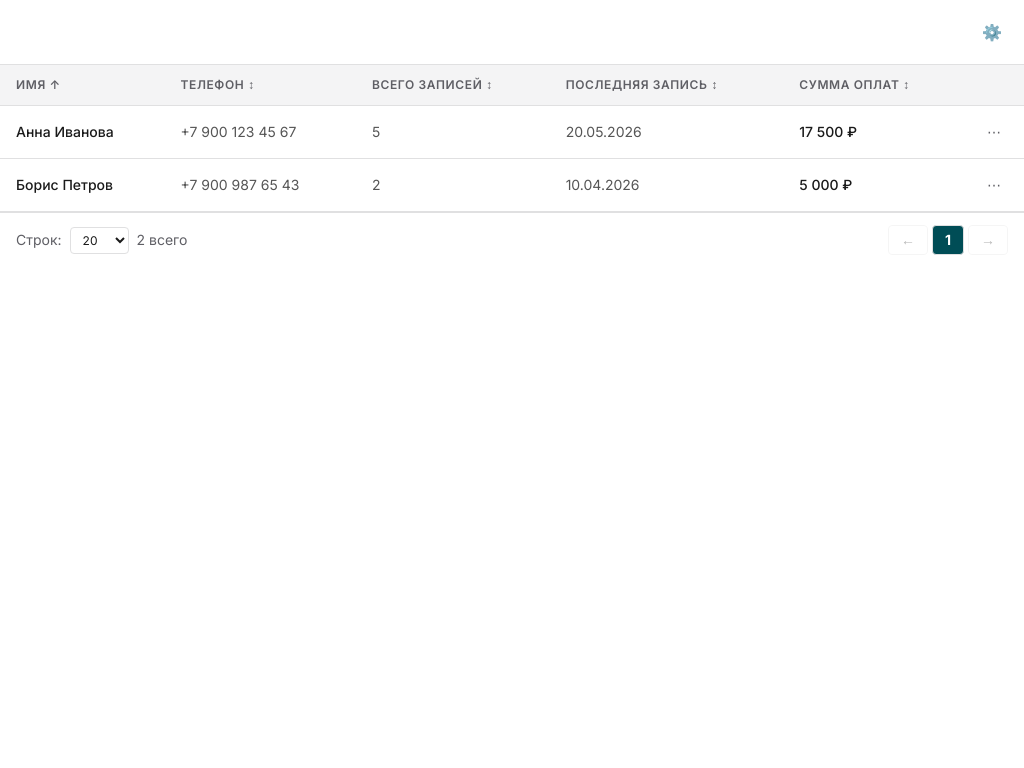
it: ClientsTable › clicking "Удалить" runs the delete dry-run; 409 opens the DeleteDialog
Note: Open the row-1 actions dropdown and click "Удалить"
Click the button named "Действия" at (994, 132), box [980, 118, 1008, 146]
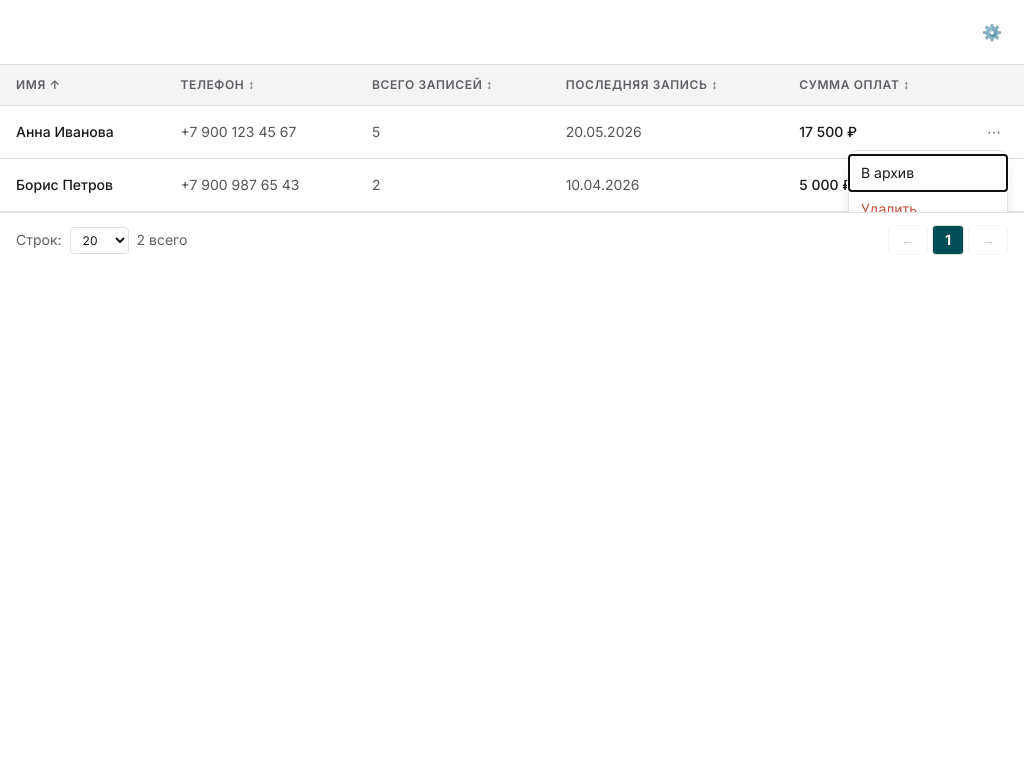
Click the menu item "Удалить" at (928, 209), box [849, 191, 1007, 227]
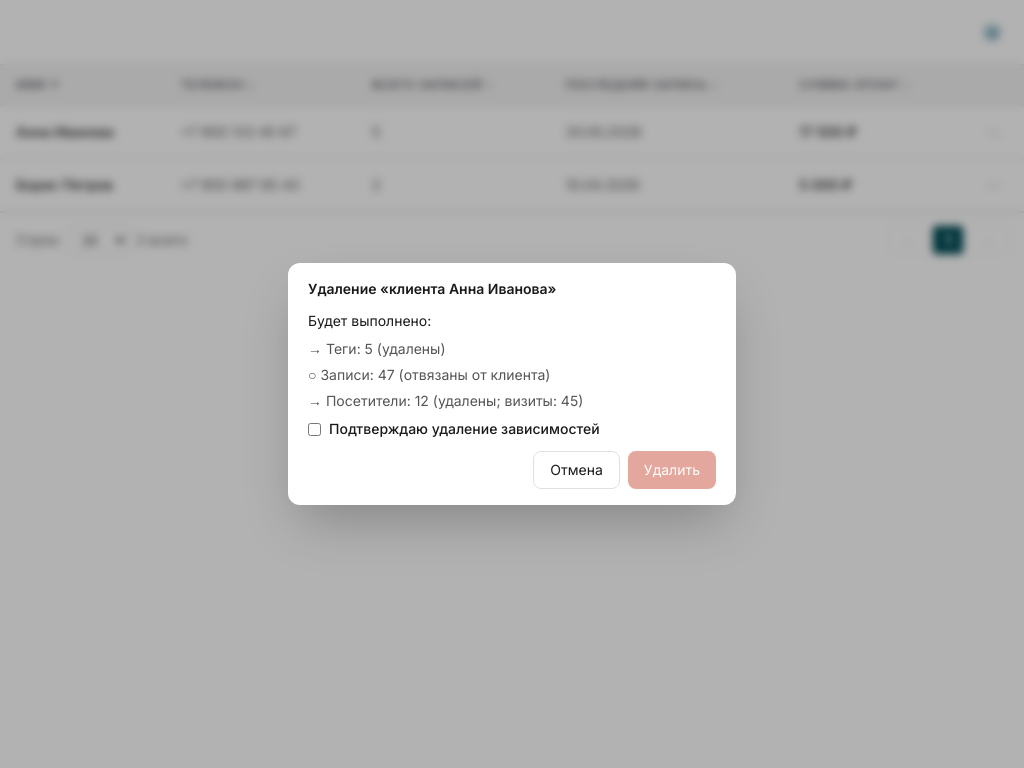
Expected: the element with test id "delete-dialog" is shown, [288, 263, 736, 505]
Expected: the heading with test id "delete-dialog-title" shows "Анна Иванова", [308, 280, 556, 297]
